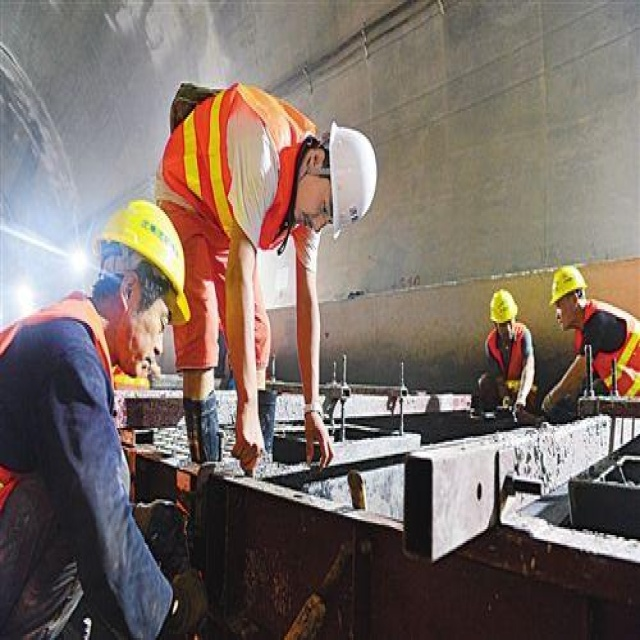Helmet: (86, 186, 199, 407), (281, 108, 395, 262), (542, 254, 597, 338), (479, 280, 520, 344)
Reflective vest: (153, 70, 314, 264), (563, 297, 640, 403), (483, 324, 536, 414)
